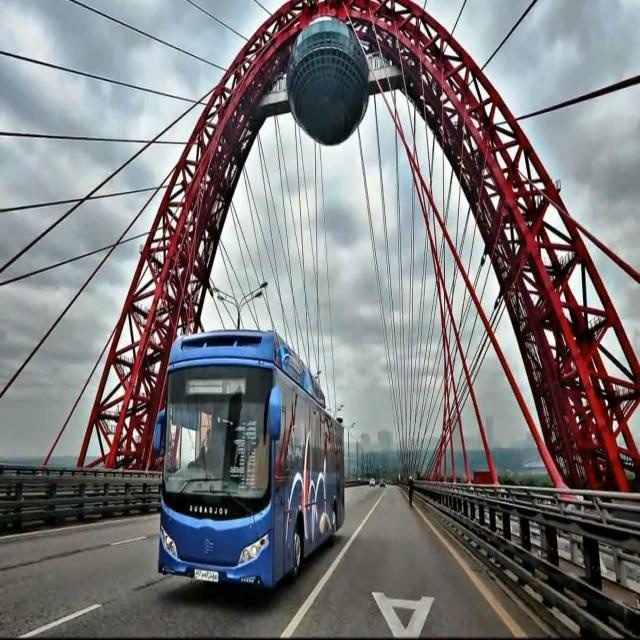bus: (128, 319, 364, 624)
